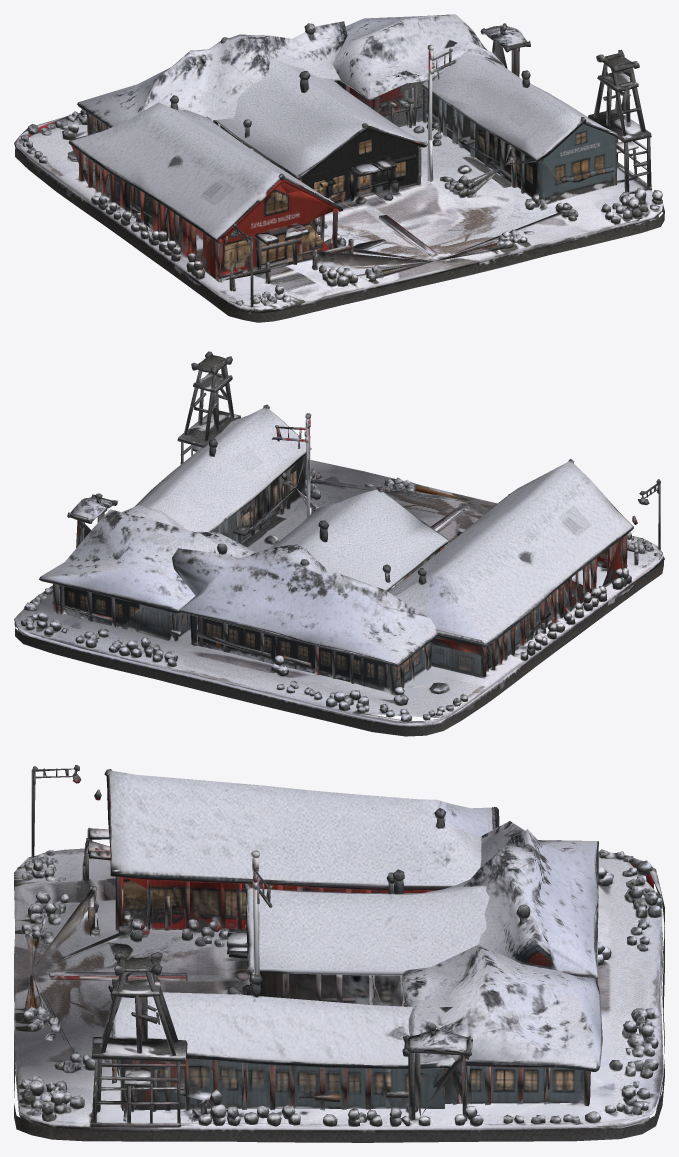
The model's file is longyearbyenbuildings1-web.glb.
3 renders of one model, top to bottom at view 1: azimuth 30°, elevation 25°; view 2: azimuth 150°, elevation 25°; view 3: azimuth 270°, elevation 25°, orthographic. The views are drawn at different scales.
Bounding box in the file's own units: 1 × 0.3291 × 1.
1 material, 1 textured.
